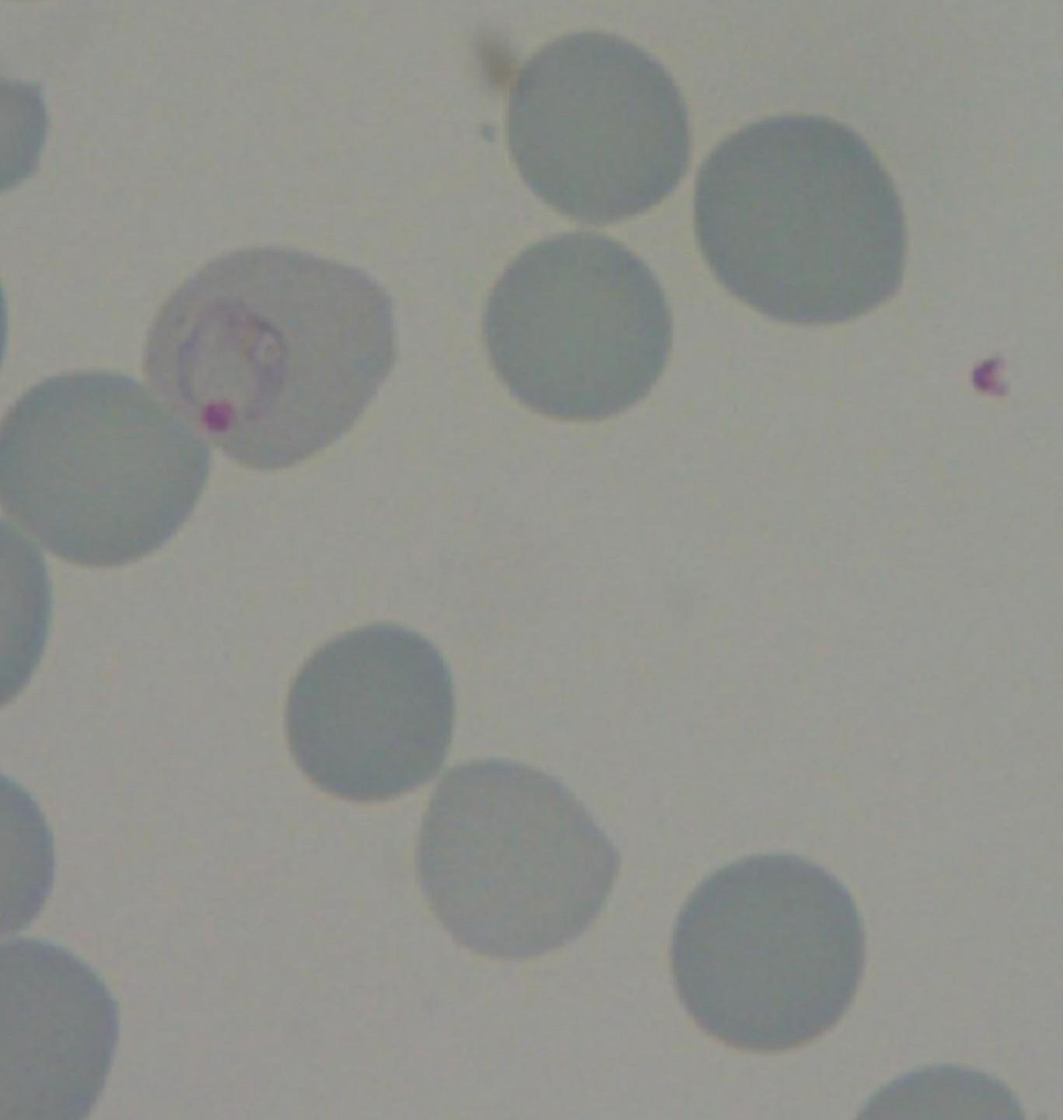Infected: (148, 247, 402, 474)
Uninfected: (695, 112, 910, 323), (0, 371, 219, 567), (417, 755, 625, 956), (677, 851, 865, 1051), (487, 229, 668, 417), (508, 37, 692, 221), (283, 625, 454, 800)
